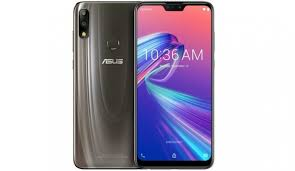asus: (131, 2, 217, 169), (71, 1, 138, 170)
